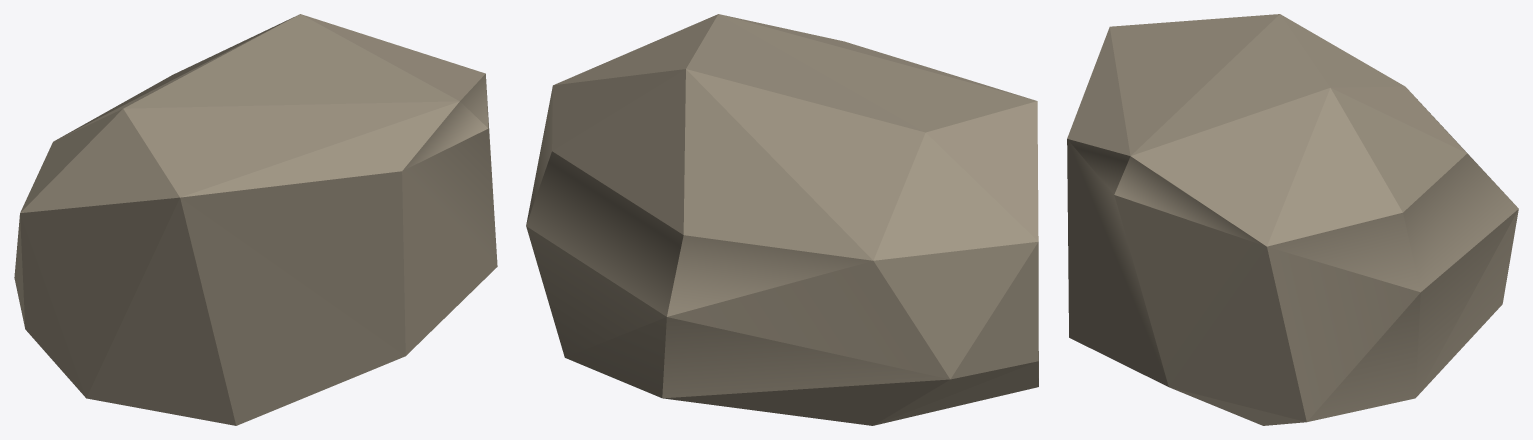
File: SM_Rock_03.glb
3 renders of one model, left to right at view 1: azimuth 30°, elevation 25°; view 2: azimuth 150°, elevation 25°; view 3: azimuth 270°, elevation 25°, orthographic. The views are drawn at different scales.
Visible parts, largest first — view 1: SM_Rock_03; view 2: SM_Rock_03; view 3: SM_Rock_03.
Boxes of the visible parts, x1=… form: SM_Rock_03: x1=14, y1=14, x2=497, y2=425; SM_Rock_03: x1=526, y1=14, x2=1038, y2=425; SM_Rock_03: x1=1067, y1=14, x2=1518, y2=425.
Bounding box in the file's own units: 0.4761 × 0.3079 × 0.384.
Materials: 1 (1 with a texture image).
